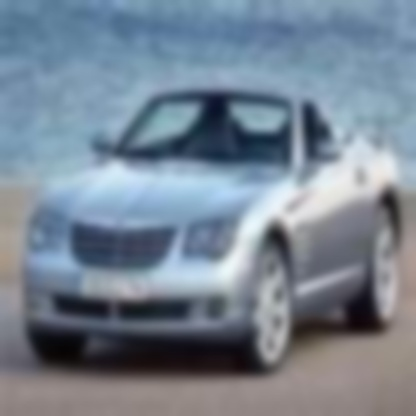Vehicle: (23, 86, 411, 369)
